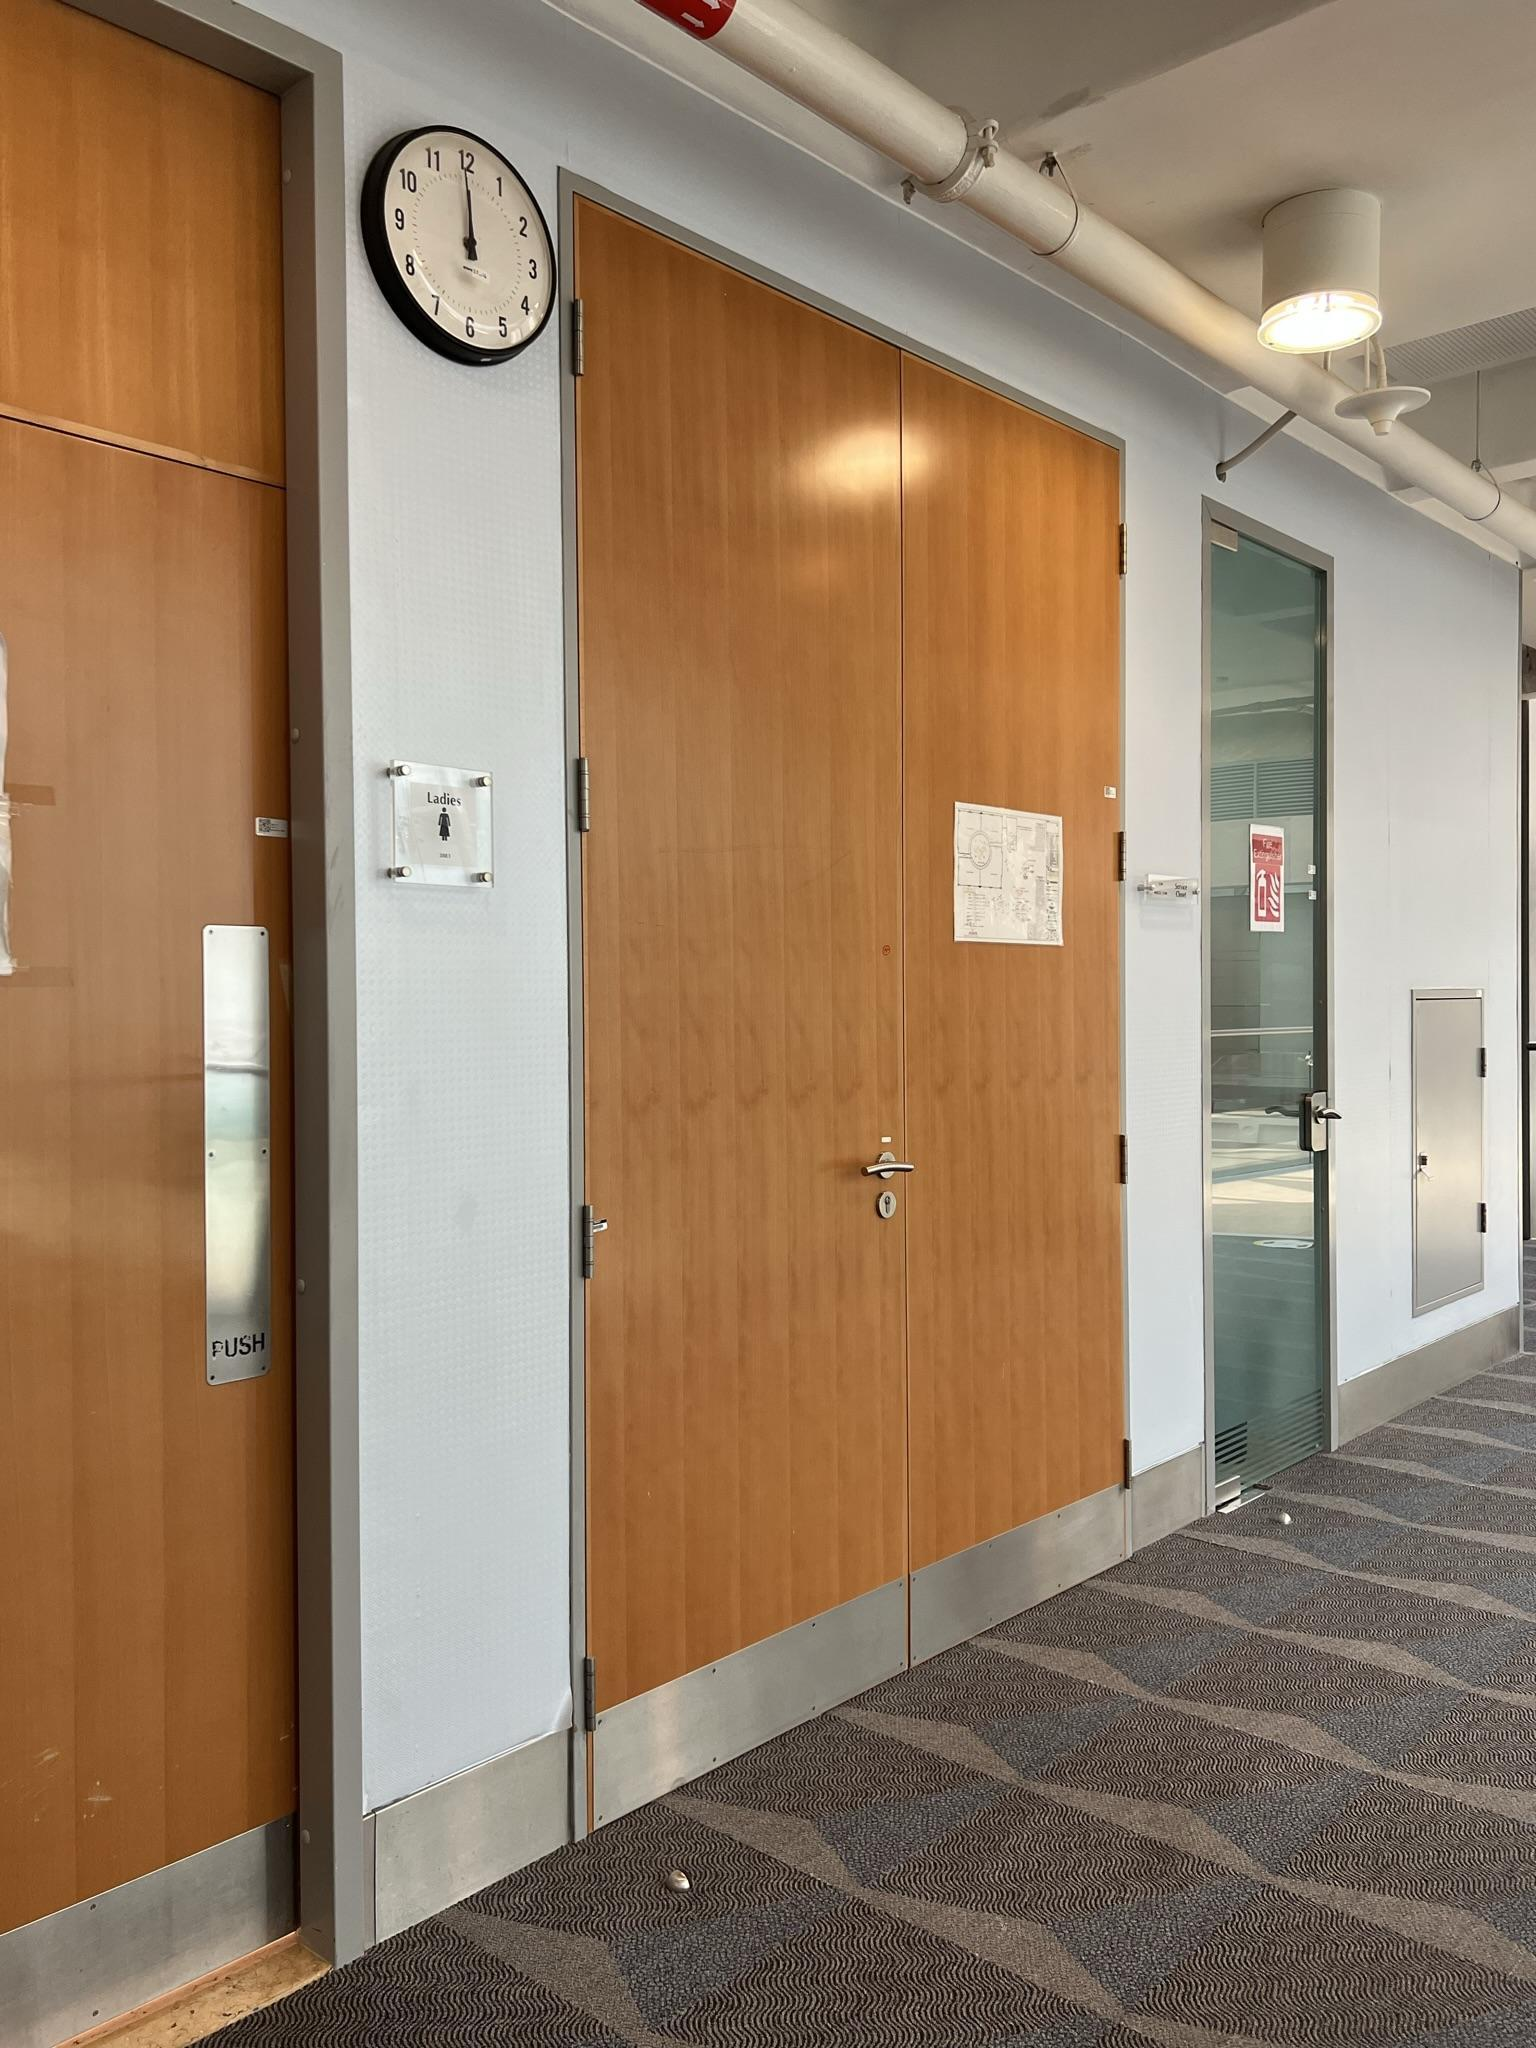door: (0, 0, 332, 2009), (578, 161, 905, 1771), (902, 356, 1146, 1609), (1202, 471, 1341, 1490)
handle: (862, 1135, 925, 1230)
